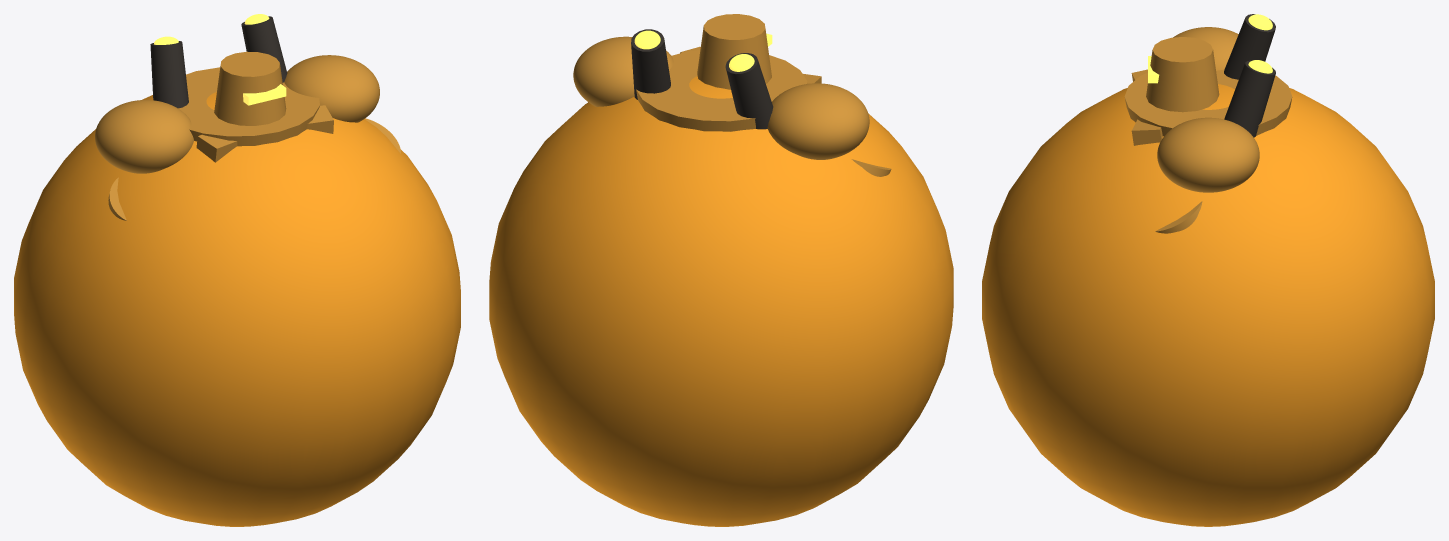
Rendered from jefe_coloso_bronce.glb.
3 views of the same model, side by side, from view 1: azimuth 30°, elevation 25°; view 2: azimuth 150°, elevation 25°; view 3: azimuth 270°, elevation 25° (orthographic). The views are drawn at different scales.
Visible parts, largest first — view 1: BurbujaHexagonal, _MeshInstance3D_22, _MeshInstance3D_2, _MeshInstance3D_26, _MeshInstance3D_20, _MeshInstance3D_15, _MeshInstance3D_18, _MeshInstance3D_3; view 2: BurbujaHexagonal, _MeshInstance3D_22, _MeshInstance3D_2, _MeshInstance3D_20, _MeshInstance3D_26, _MeshInstance3D_15, _MeshInstance3D_18; view 3: BurbujaHexagonal, _MeshInstance3D_26, _MeshInstance3D_20, _MeshInstance3D_2, _MeshInstance3D_18, _MeshInstance3D_15, _MeshInstance3D_22, _MeshInstance3D_8.
Boxes of the visible parts, x1,y1,x2,y2 form: BurbujaHexagonal: [14, 92, 460, 526]; _MeshInstance3D_22: [95, 100, 193, 173]; _MeshInstance3D_2: [178, 67, 319, 146]; _MeshInstance3D_26: [284, 55, 379, 122]; _MeshInstance3D_20: [214, 51, 286, 125]; _MeshInstance3D_15: [150, 41, 188, 108]; _MeshInstance3D_18: [241, 16, 287, 82]; _MeshInstance3D_3: [196, 134, 237, 162]; BurbujaHexagonal: [489, 76, 953, 526]; _MeshInstance3D_22: [767, 83, 869, 159]; _MeshInstance3D_2: [636, 50, 807, 131]; _MeshInstance3D_20: [697, 14, 771, 89]; _MeshInstance3D_26: [573, 36, 673, 106]; _MeshInstance3D_15: [725, 53, 773, 129]; _MeshInstance3D_18: [631, 29, 670, 99]; BurbujaHexagonal: [982, 84, 1434, 526]; _MeshInstance3D_26: [1157, 117, 1259, 192]; _MeshInstance3D_20: [1146, 37, 1219, 112]; _MeshInstance3D_2: [1124, 69, 1292, 136]; _MeshInstance3D_18: [1224, 60, 1275, 137]; _MeshInstance3D_15: [1224, 14, 1275, 79]; _MeshInstance3D_22: [1173, 27, 1238, 70]; _MeshInstance3D_8: [1131, 119, 1162, 145].
Size of the model in its own units: 3.88 by 4.42 by 3.88.
